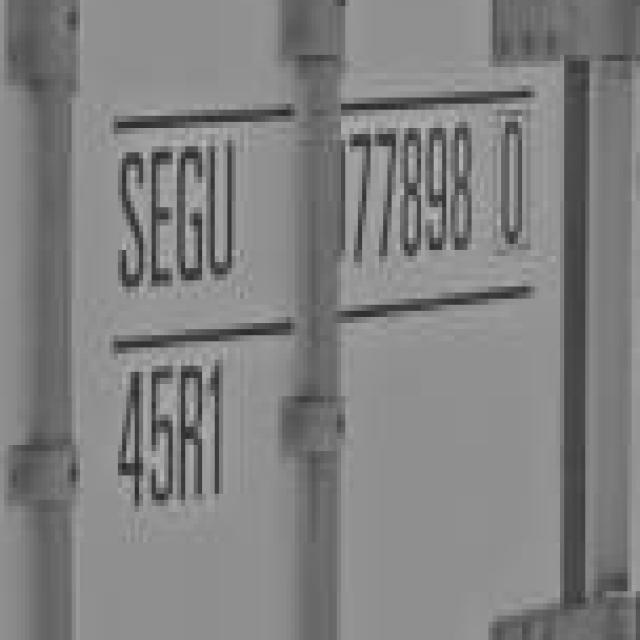dv: (491, 109, 535, 254)
owner: (110, 138, 254, 290)
serial: (334, 120, 480, 270)
size: (110, 356, 238, 519)
